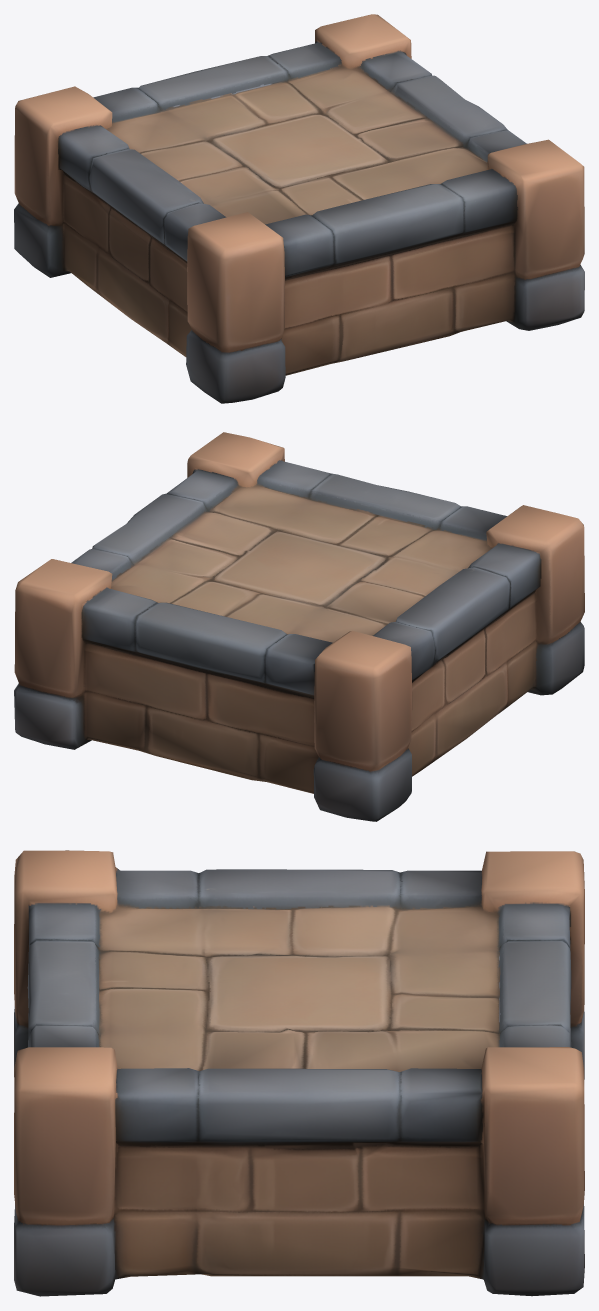
Rendered from PlatformBrick.fbx.
The picture shows the model from 3 angles, top to bottom: view 1: azimuth 30°, elevation 25°; view 2: azimuth 150°, elevation 25°; view 3: azimuth 270°, elevation 25°; orthographic projection. The views are drawn at different scales.
Visible parts, largest first — view 1: PlatformBrick; view 2: PlatformBrick; view 3: PlatformBrick.
Part boxes in pixels (x1,y1,x2,y2): PlatformBrick: (14, 14, 584, 403); PlatformBrick: (14, 432, 584, 821); PlatformBrick: (14, 850, 584, 1296).
Bounding box in the file's own units: 0.9926 × 0.4068 × 0.9926.
